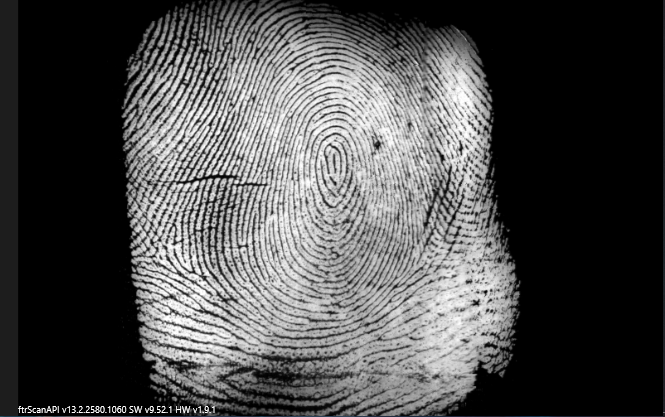nucelo: (313, 139, 346, 188)
verticilo: (420, 234, 447, 259), (175, 257, 201, 282)
